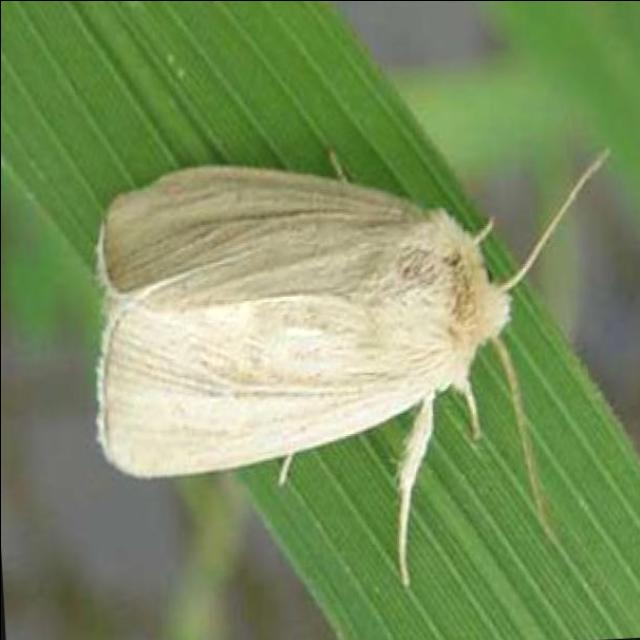stem borer: (97, 132, 625, 537)
